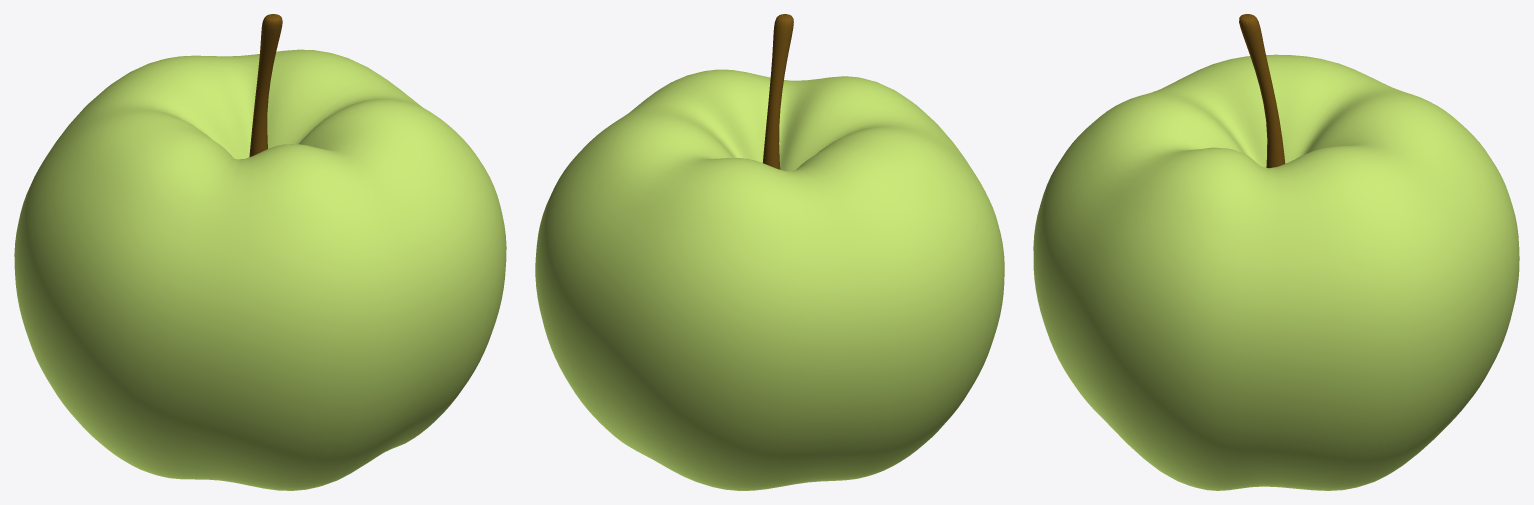
Rendered from Apple.fbx.
3 views of the same model, side by side, from view 1: azimuth 30°, elevation 25°; view 2: azimuth 150°, elevation 25°; view 3: azimuth 270°, elevation 25° (orthographic). The views are drawn at different scales.
Visible parts, largest first — view 1: Sphere; view 2: Sphere; view 3: Sphere.
Part boxes in pixels (x1=…): Sphere: x1=14, y1=14, x2=506, y2=490; Sphere: x1=535, y1=14, x2=1004, y2=490; Sphere: x1=1033, y1=14, x2=1519, y2=490.
Size of the model in its own units: 223 by 219 by 226.
